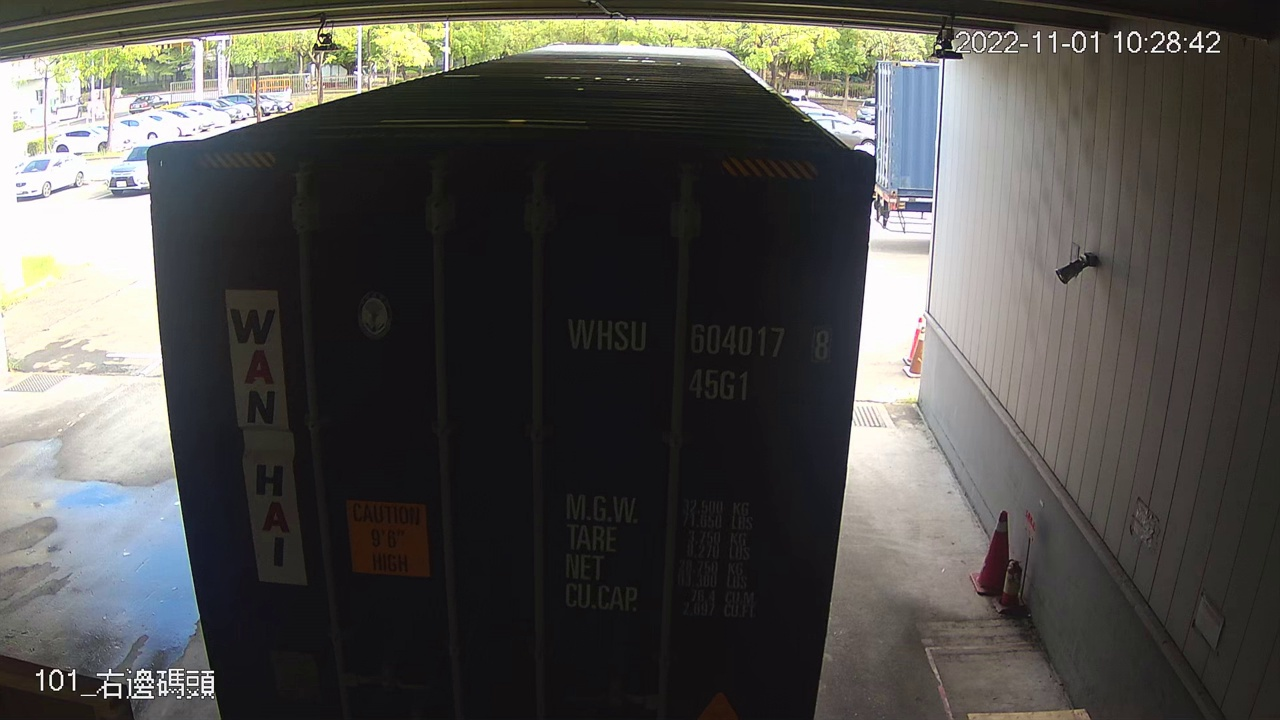container: (559, 303, 839, 411)
